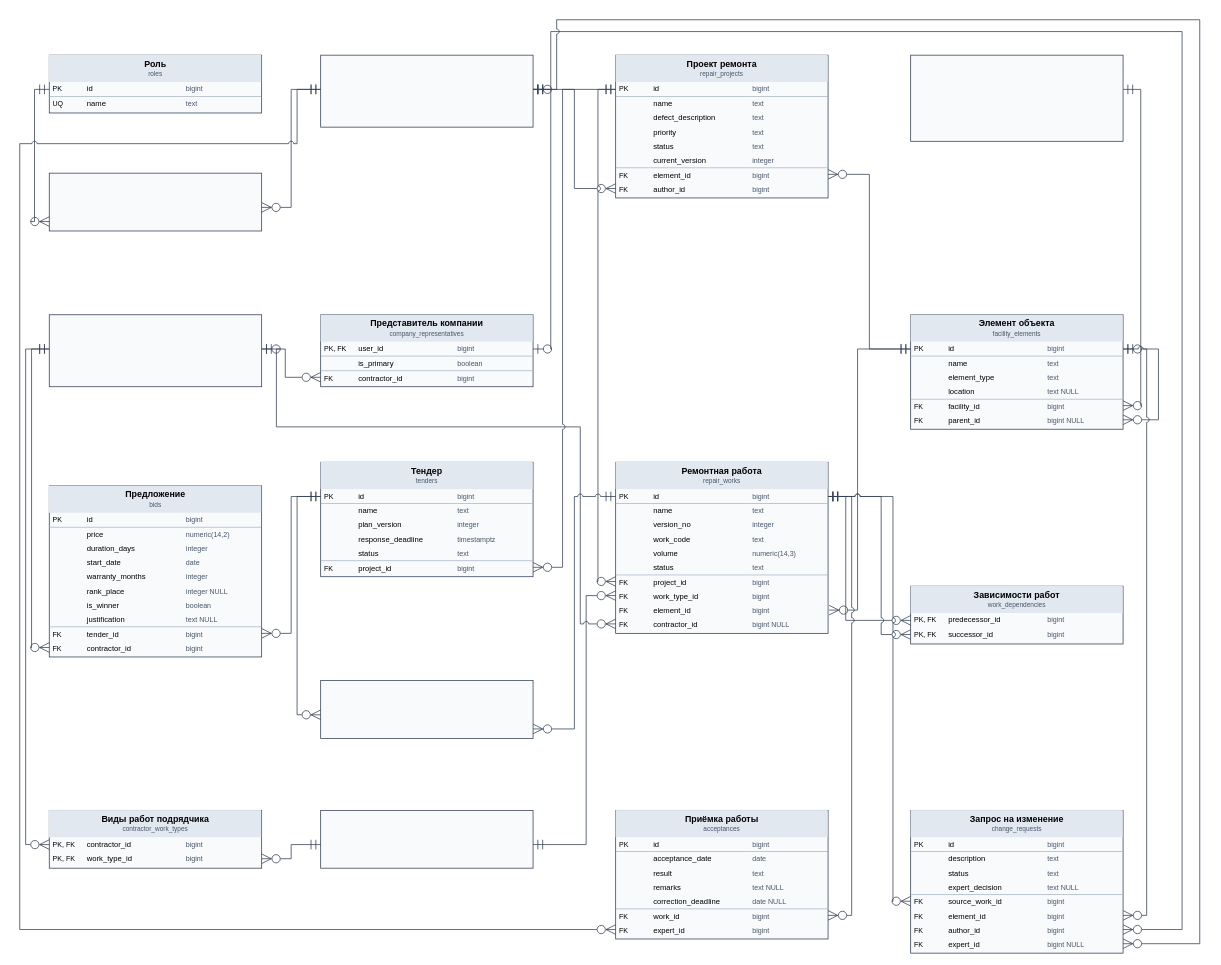
The diagram is 1221 pixels wide and 965 high, and some of its shapes have lost their labels. Here are the shapes that lost their labels. From the top down, the centre of each, then its label:
At [426,91]: "Пользователь app_users PK id bigint full_name text email text".
At [1016,98]: "Объект ремонта facilities PK id bigint name text kind text address text".
At [155,202]: "Роли пользователей user_roles PK, FK user_id bigint PK, FK role_id bigint".
At [155,350]: "Подрядчик contractors PK id bigint company_name text status text".
At [426,709]: "Работы тендера tender_works PK, FK tender_id bigint PK, FK work_id bigint".
At [426,839]: "Вид работ work_types PK id bigint UQ name text".
